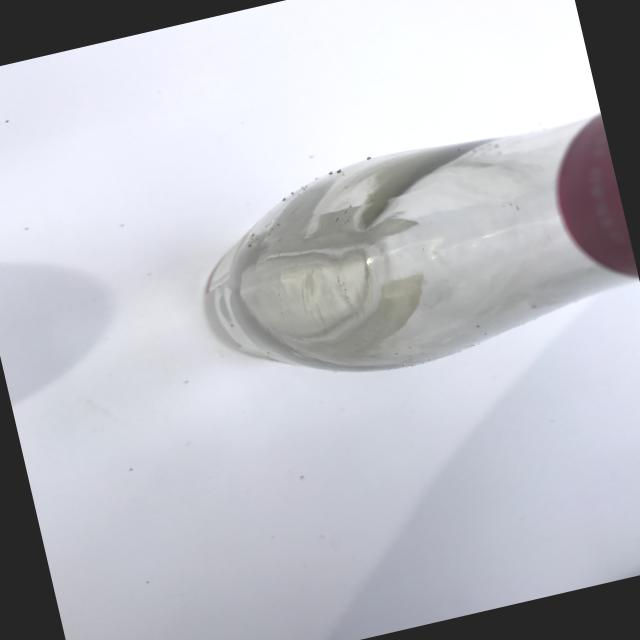Glass: (157, 88, 640, 440)
